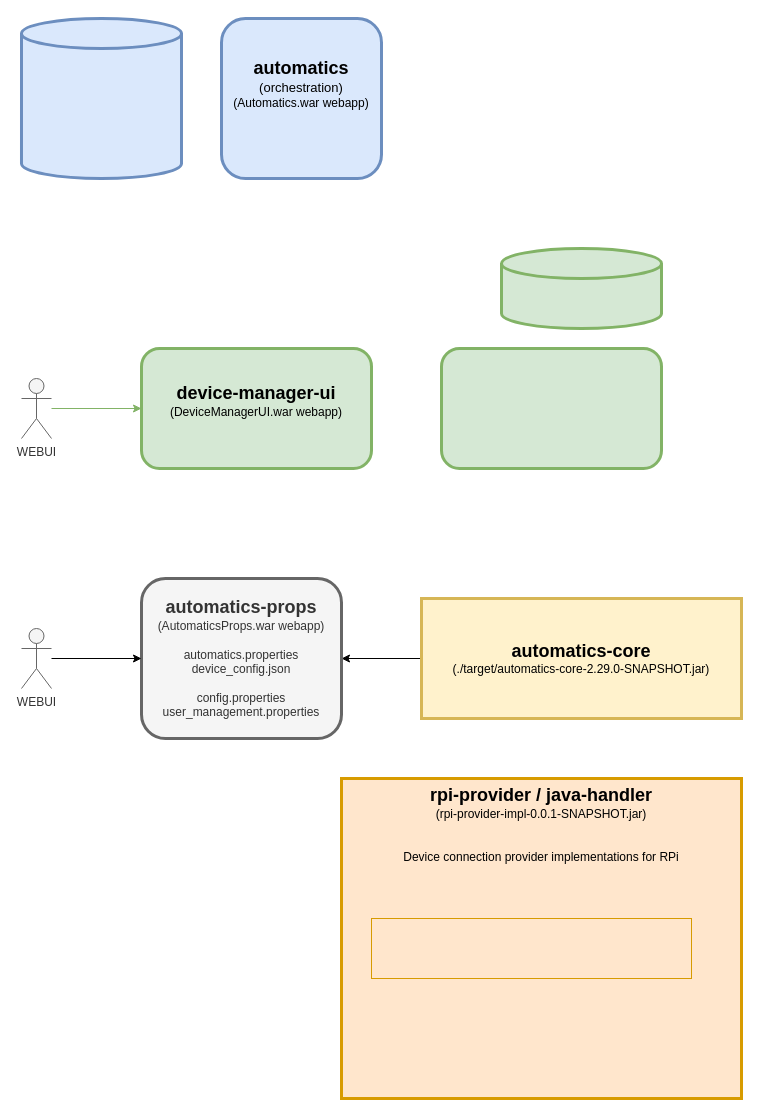
This 760x1117 diagram has some shape labels left out. Each missing label, with the centre of its shape:
"automatics RDKB DB MySqlProcedures" goes at point 101,98.
"device-manager (device-manager-1.0.5.war webapp)" goes at point 551,408.
"device_manager" goes at point 581,288.
"DeviceConnectionProviderImpl()" goes at point 531,948.
